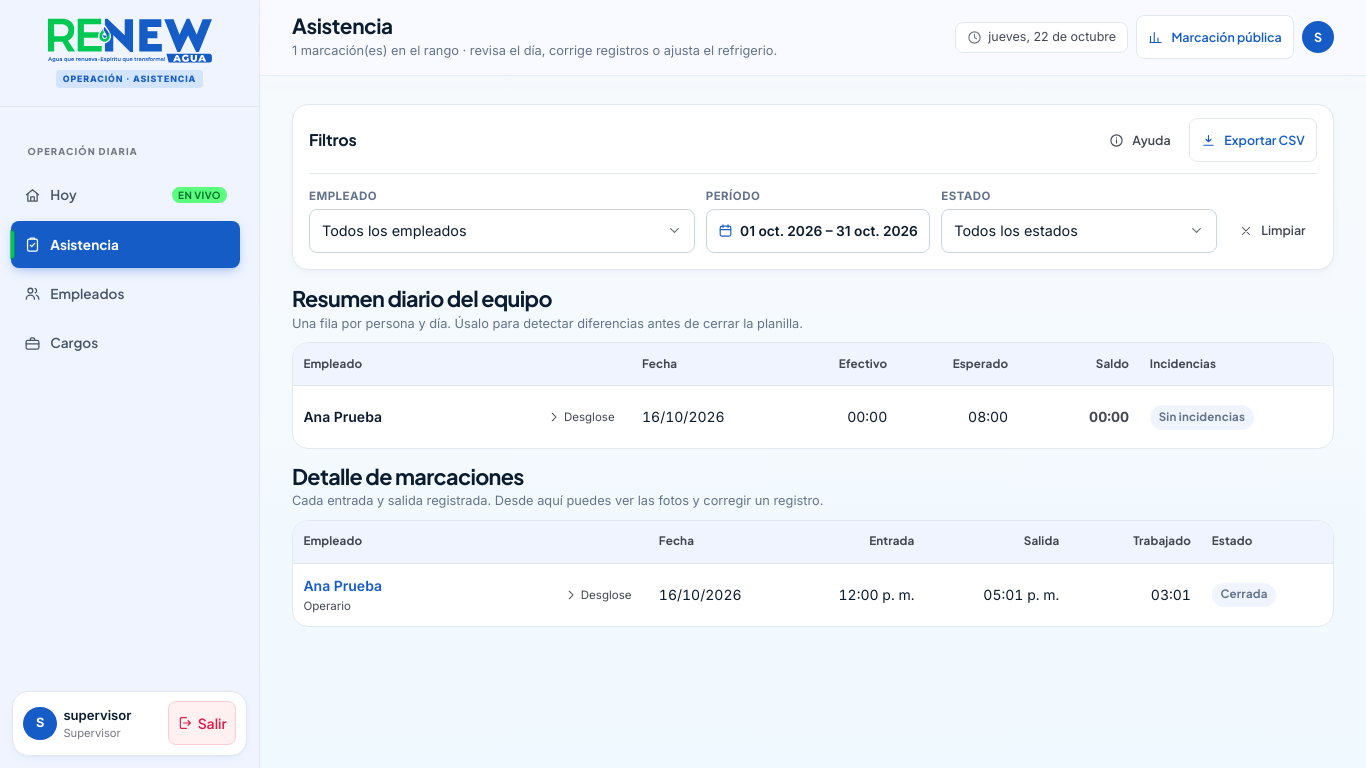
Test: Admin — tablas de asistencia › SUPERVISOR conserva jornada esperada, saldo y rol en el desglose del detalle de marcaciones
Click the button "Desglose" in the row of "Operario": x=598, y=595 x1=557 y1=573 x2=638 y2=617
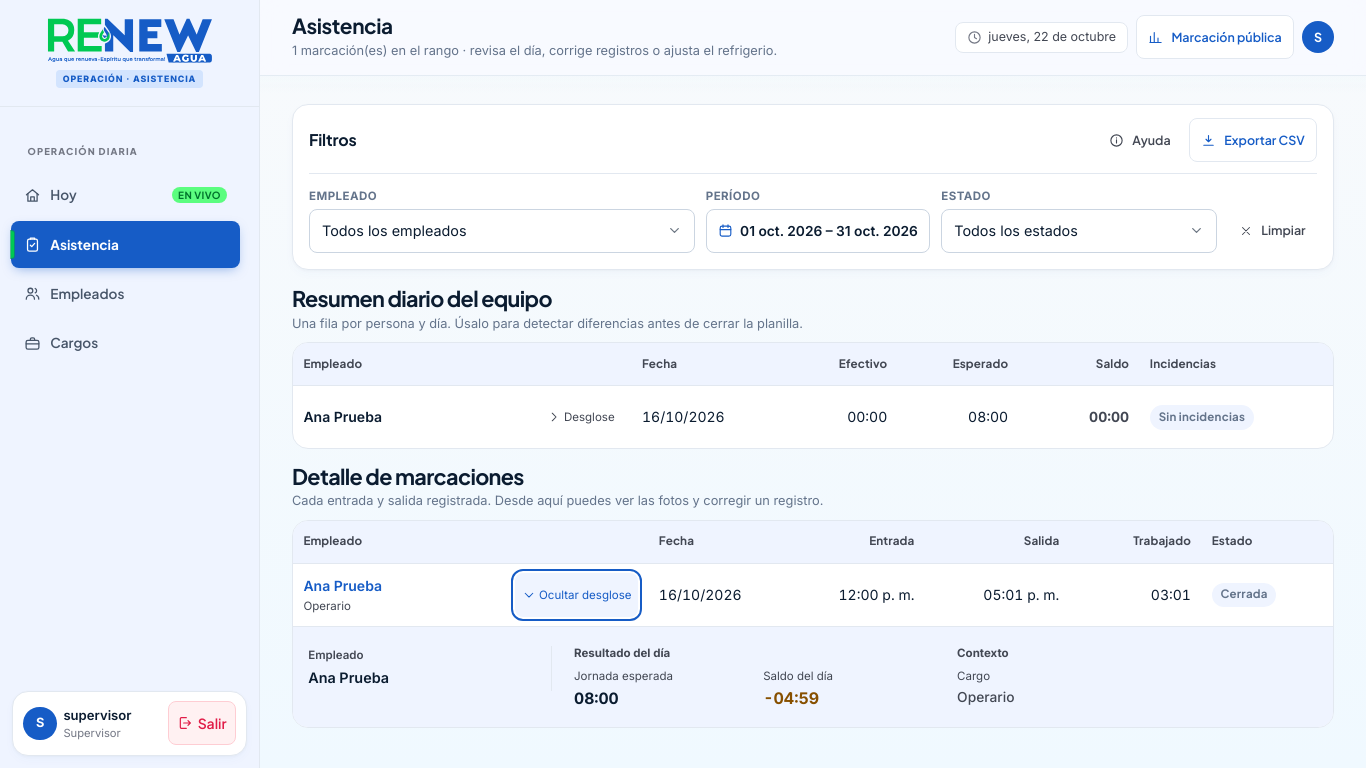
Now the 5th row shows "Saldo", box x1=763 y1=669 x2=833 y2=683
